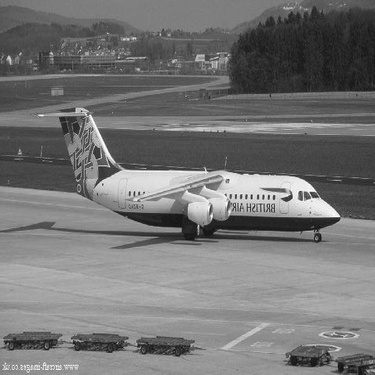airplane: (25, 92, 348, 251)
